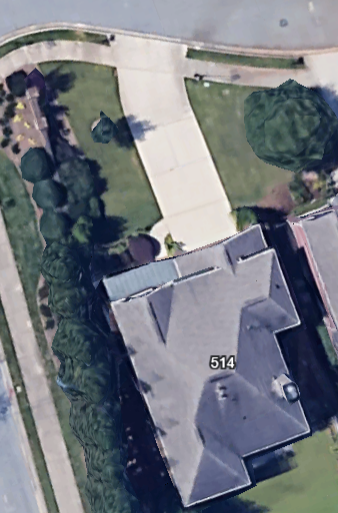driveway: (103, 21, 238, 254)
